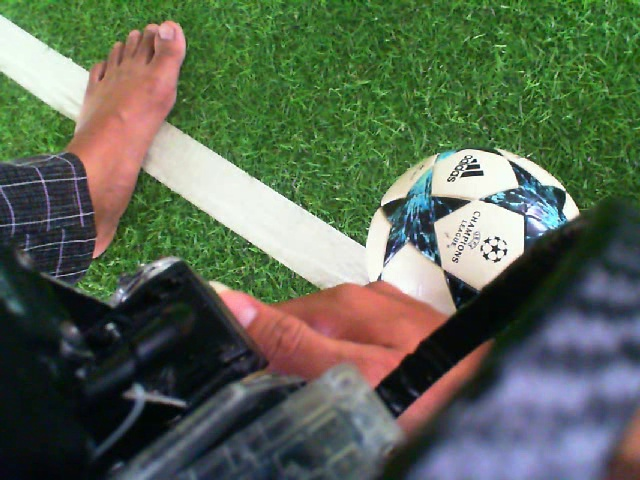ball: (363, 143, 583, 319)
